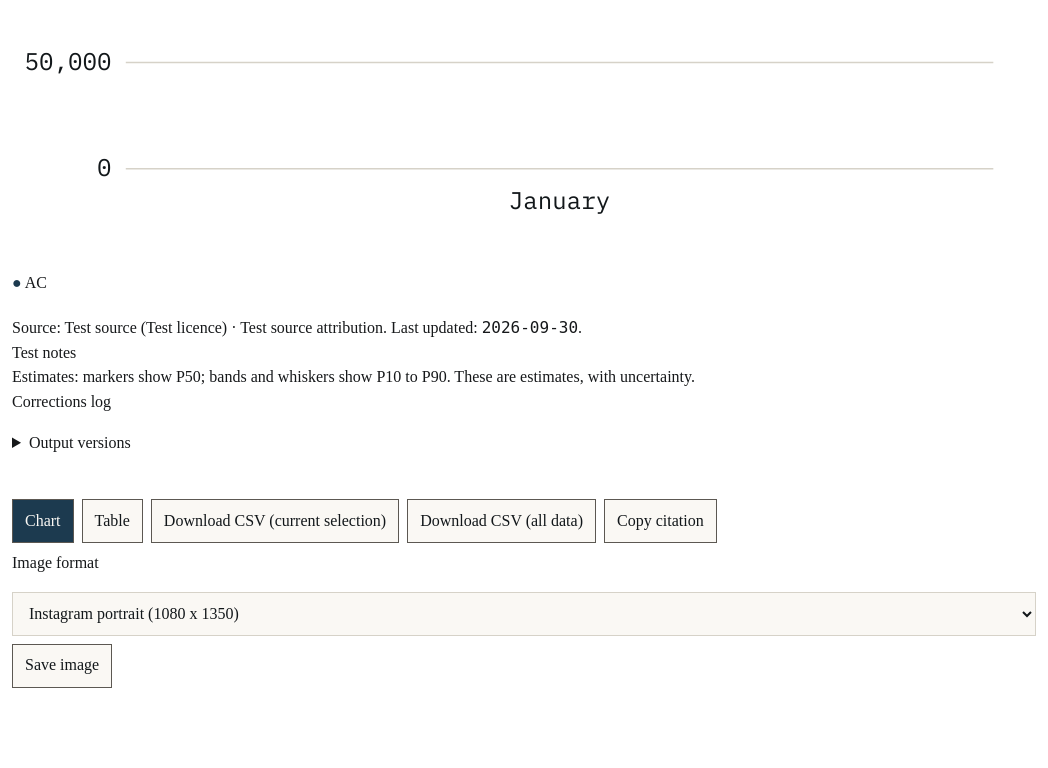
Scenario: shared analytics charts › offers a manual citation when clipboard access fails
This screenshot has width=1048, height=768.
(page scrolled)
Click the button "Copy citation". click: x=660, y=521
box: top-left (604, 499), bottom-right (717, 543)
(page scrolled)
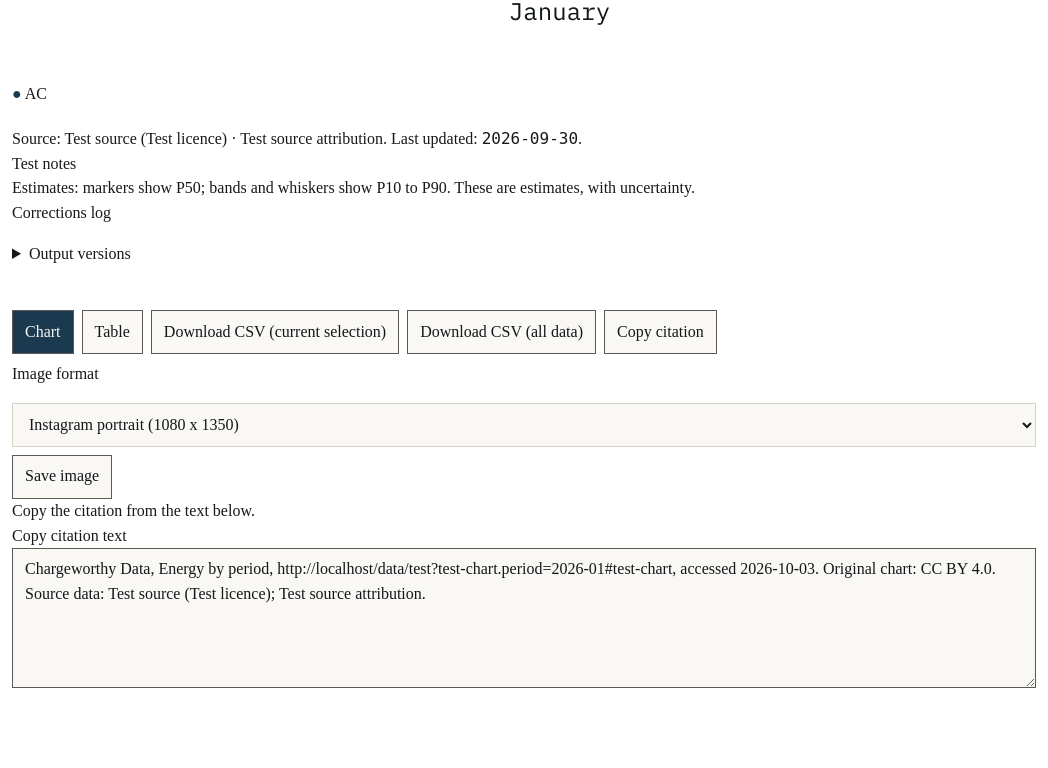
Now the text box labelled "Copy citation text" is shown, box top-left (12, 548), bottom-right (1036, 688)
